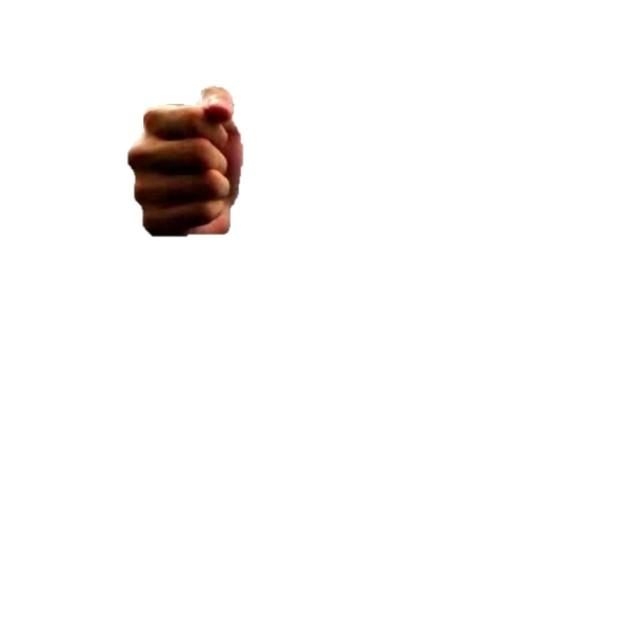gu-: (126, 84, 244, 239)
